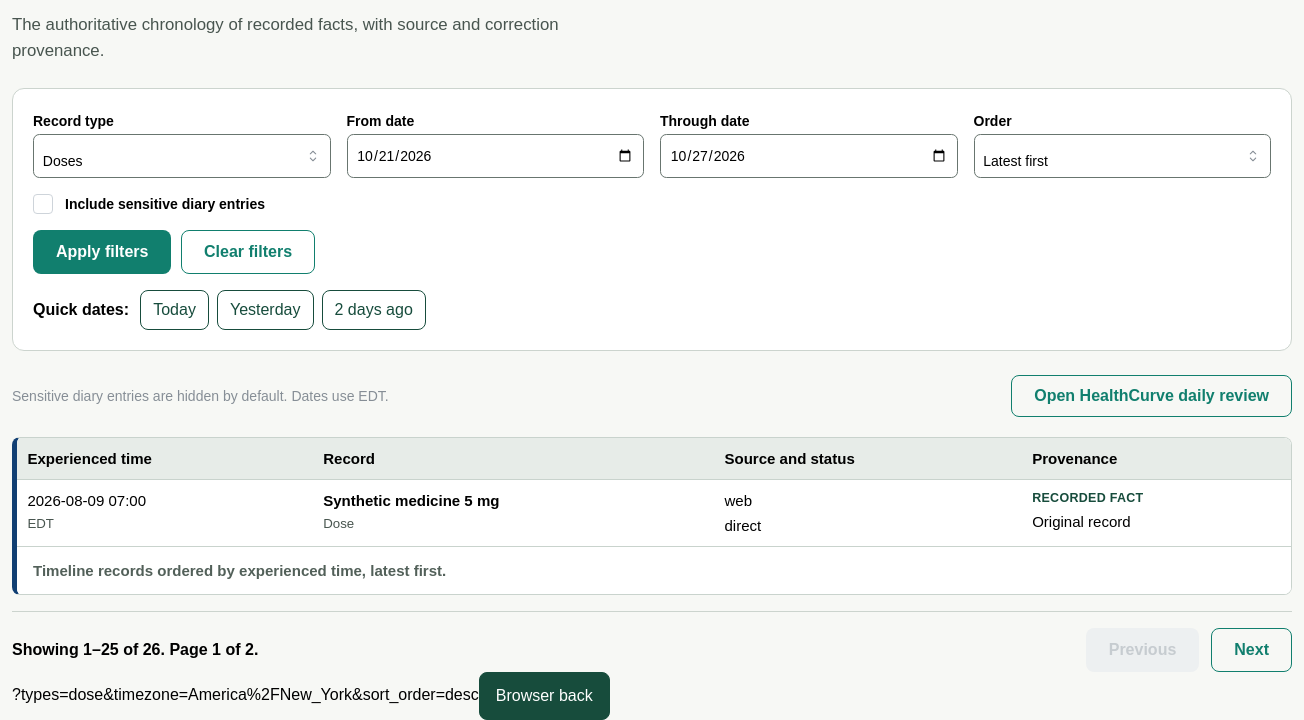
Test: Timeline page › moves through bounded pages while preserving URL filter state
(page scrolled)
Expected: the text "Showing 1–25 of 26. Page 1 of 2." is shown, [12, 638, 258, 663]
Expected: the button "Previous" is disabled, [1086, 628, 1199, 672]
Click the button "Next" at (1252, 650), box [1211, 628, 1292, 672]
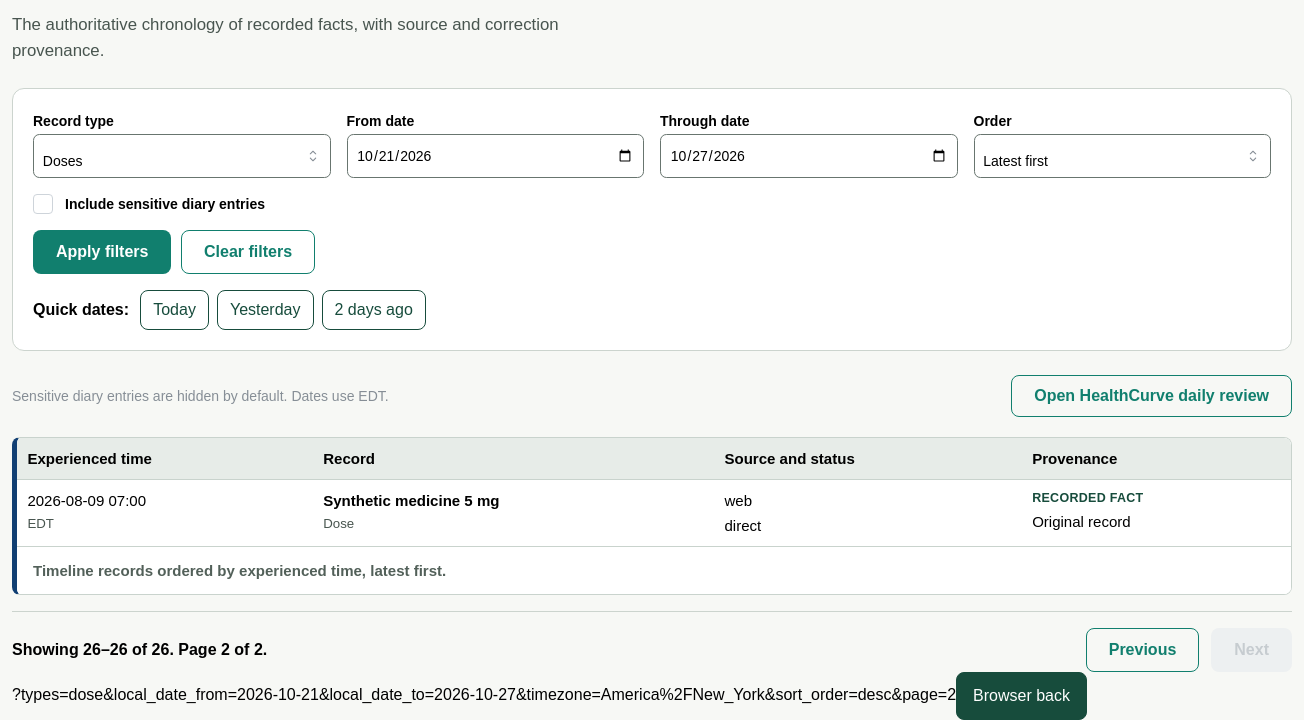
Now the text "Showing 26–26 of 26. Page 2 of 2." is shown, box [12, 638, 267, 663]
Now the text named "Current query" shows "page=2", box [12, 687, 956, 704]
Now the button "Previous" is enabled, box [1086, 628, 1199, 672]
